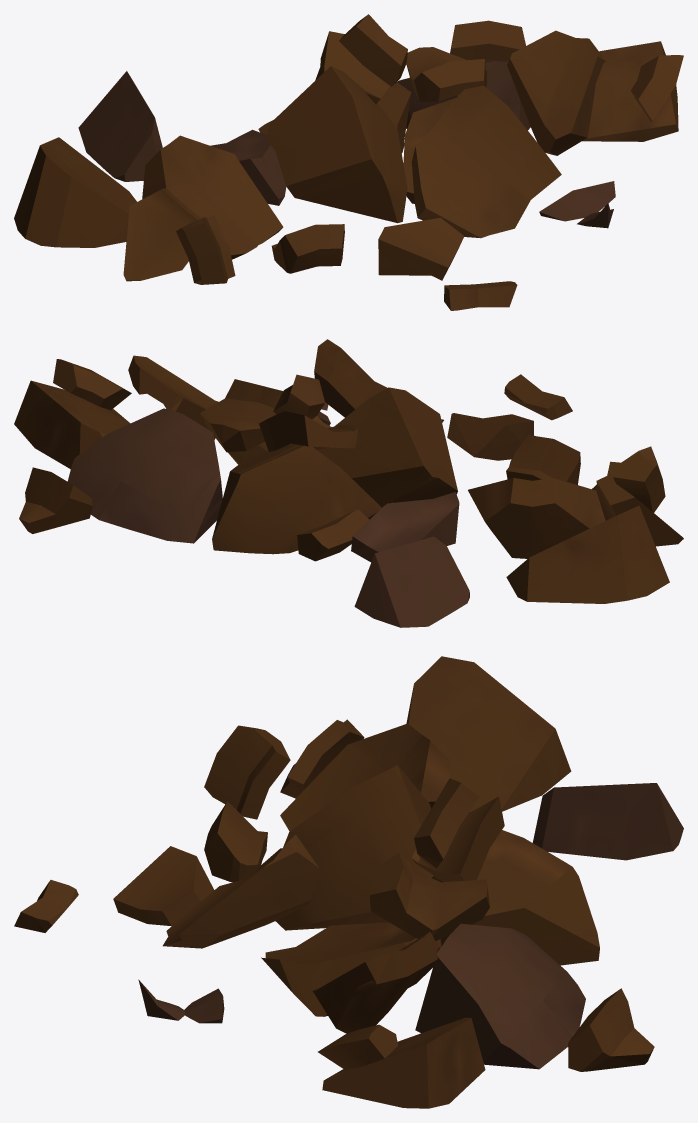
The model's file is Vase_Rubble_Medium.gltf.
3 renders of one model, top to bottom at view 1: azimuth 30°, elevation 25°; view 2: azimuth 150°, elevation 25°; view 3: azimuth 270°, elevation 25°, orthographic. The views are drawn at different scales.
Parts seen in each view (by area): view 1: Vase_Rubble_Medium; view 2: Vase_Rubble_Medium; view 3: Vase_Rubble_Medium.
Boxes of the visible parts, x1,y1,x2,y2 form: Vase_Rubble_Medium: (14,14,683,310); Vase_Rubble_Medium: (14,339,683,627); Vase_Rubble_Medium: (14,656,683,1108).
Bounding box in the file's own units: 0.7969 × 0.1746 × 0.5984.
Materials: 1 (1 with a texture image).
